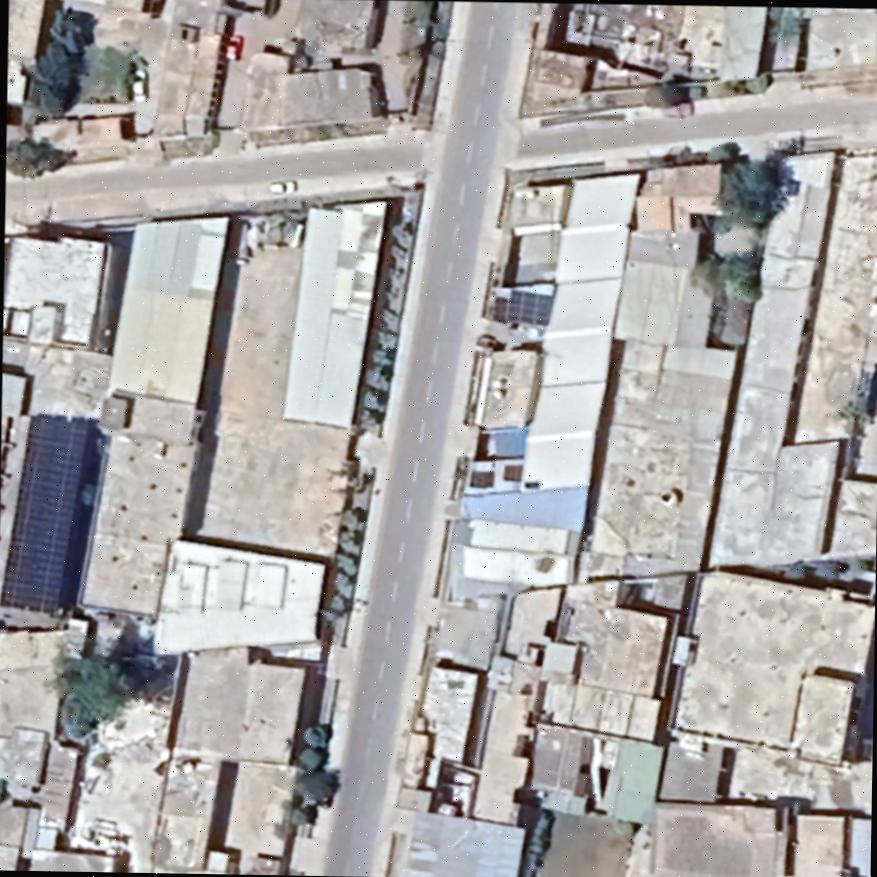Solarpanel: (0, 407, 99, 621), (485, 282, 558, 332)
